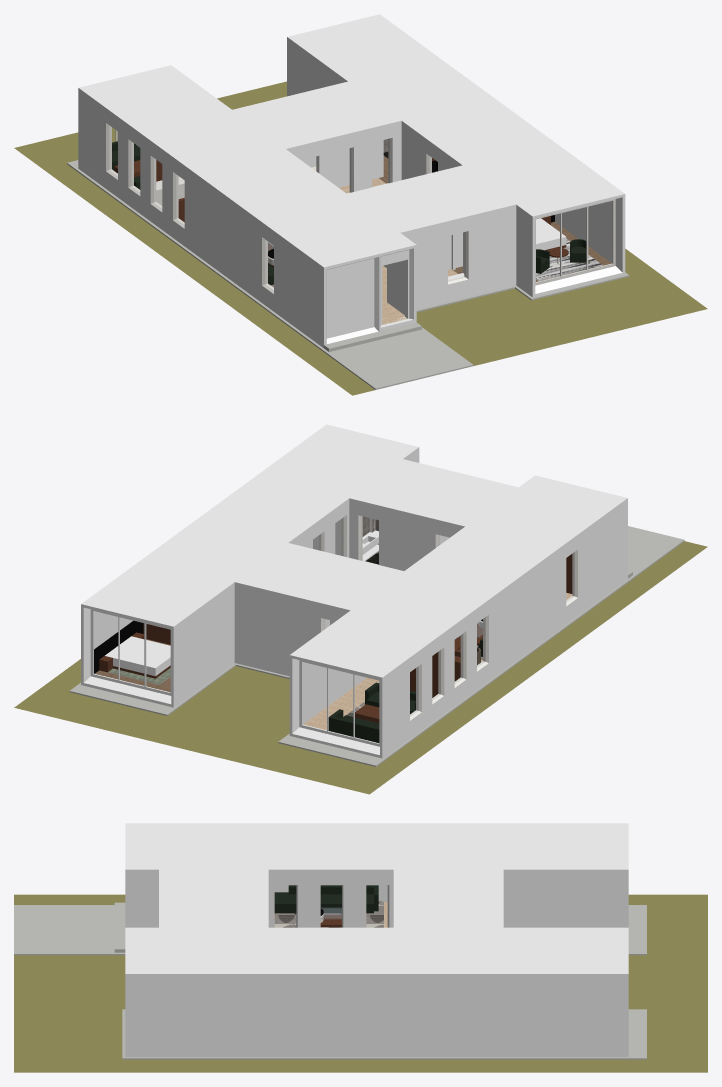
The model's file is 自建住宅200㎡住3~4人（包豪斯-渲染-贴图）.obj.
3 renders of one model, top to bottom at view 1: azimuth 30°, elevation 25°; view 2: azimuth 150°, elevation 25°; view 3: azimuth 270°, elevation 25°, orthographic. The views are drawn at different scales.
Parts seen in each view (by area): view 1: Mesh173 Group193 Group1 Model, Mesh166 Group185 Group1 Model, Mesh128 Group142 Group141 Group1 Model, Mesh140 Group157 Group1 Model, Mesh155 Group174 Group1 Model, Mesh156 Group175 Group1 Model, Mesh157 Group176 Group1 Model, Mesh141 Group158 Group1 Model, Mesh33 Group38 Group31 Group2 Group1 Model, Mesh144 Group162 Group161 Group1 Model, Mesh153 Group172 Group1 Model, Mesh154 Group173 Group1 Model (+24 smaller); view 2: Mesh173 Group193 Group1 Model, Mesh144 Group162 Group161 Group1 Model, Mesh132 Group148 Group147 Group1 Model, Mesh166 Group185 Group1 Model, Mesh149 Group168 Group1 Model, Mesh171 Group191 Group1 Model, Mesh148 Group167 Group1 Model, Mesh172 Group192 Group1 Model, Mesh156 Group175 Group1 Model, Mesh165 Group184 Group1 Model, Mesh141 Group158 Group1 Model, Mesh159 Group178 Group1 Model (+23 smaller); view 3: Mesh173 Group193 Group1 Model, Mesh166 Group185 Group1 Model, Mesh143 Group160 Group1 Model, Mesh142 Group159 Group1 Model, Mesh163 Group182 Group1 Model, Mesh128 Group142 Group141 Group1 Model, Mesh132 Group148 Group147 Group1 Model, Mesh136 Group153 Group1 Model, Mesh137 Group154 Group1 Model, Mesh160 Group179 Group1 Model, Mesh161 Group180 Group1 Model, Mesh162 Group181 Group1 Model (+21 smaller).
Boxes of the visible parts, bbox=[...] form: Mesh173 Group193 Group1 Model: bbox=[14, 81, 707, 395]; Mesh166 Group185 Group1 Model: bbox=[67, 160, 629, 389]; Mesh128 Group142 Group141 Group1 Model: bbox=[510, 177, 625, 297]; Mesh140 Group157 Group1 Model: bbox=[301, 228, 416, 347]; Mesh155 Group174 Group1 Model: bbox=[424, 165, 516, 294]; Mesh156 Group175 Group1 Model: bbox=[385, 175, 477, 304]; Mesh157 Group176 Group1 Model: bbox=[347, 184, 438, 309]; Mesh141 Group158 Group1 Model: bbox=[279, 212, 393, 331]; Mesh33 Group38 Group31 Group2 Group1 Model: bbox=[326, 250, 409, 338]; Mesh144 Group162 Group161 Group1 Model: bbox=[78, 65, 193, 184]; Mesh153 Group172 Group1 Model: bbox=[234, 179, 349, 298]; Mesh154 Group173 Group1 Model: bbox=[212, 163, 326, 282]; Mesh173 Group193 Group1 Model: bbox=[14, 541, 707, 794]; Mesh144 Group162 Group161 Group1 Model: bbox=[289, 639, 404, 758]; Mesh132 Group148 Group147 Group1 Model: bbox=[81, 588, 195, 707]; Mesh166 Group185 Group1 Model: bbox=[69, 526, 684, 766]; Mesh149 Group168 Group1 Model: bbox=[234, 543, 326, 672]; Mesh171 Group191 Group1 Model: bbox=[312, 622, 426, 741]; Mesh148 Group167 Group1 Model: bbox=[273, 552, 365, 676]; Mesh172 Group192 Group1 Model: bbox=[103, 571, 218, 690]; Mesh156 Group175 Group1 Model: bbox=[388, 468, 479, 570]; Mesh165 Group184 Group1 Model: bbox=[334, 606, 449, 725]; Mesh141 Group158 Group1 Model: bbox=[491, 492, 605, 611]; Mesh159 Group178 Group1 Model: bbox=[401, 557, 516, 676]; Mesh173 Group193 Group1 Model: bbox=[14, 894, 707, 1072]; Mesh166 Group185 Group1 Model: bbox=[14, 905, 646, 1059]; Mesh143 Group160 Group1 Model: bbox=[491, 927, 537, 1056]; Mesh142 Group159 Group1 Model: bbox=[262, 927, 308, 1056]; Mesh163 Group182 Group1 Model: bbox=[445, 927, 491, 1056]; Mesh128 Group142 Group141 Group1 Model: bbox=[125, 927, 170, 1056]; Mesh132 Group148 Group147 Group1 Model: bbox=[583, 927, 628, 1056]; Mesh136 Group153 Group1 Model: bbox=[400, 927, 445, 1056]; Mesh137 Group154 Group1 Model: bbox=[354, 927, 399, 1056]; Mesh160 Group179 Group1 Model: bbox=[217, 927, 262, 1056]; Mesh161 Group180 Group1 Model: bbox=[308, 927, 353, 1056]; Mesh162 Group181 Group1 Model: bbox=[171, 927, 216, 1056].
Size of the model in its own units: 13800 by 3050 by 22750.
Materials: 20 (11 with a texture image).
